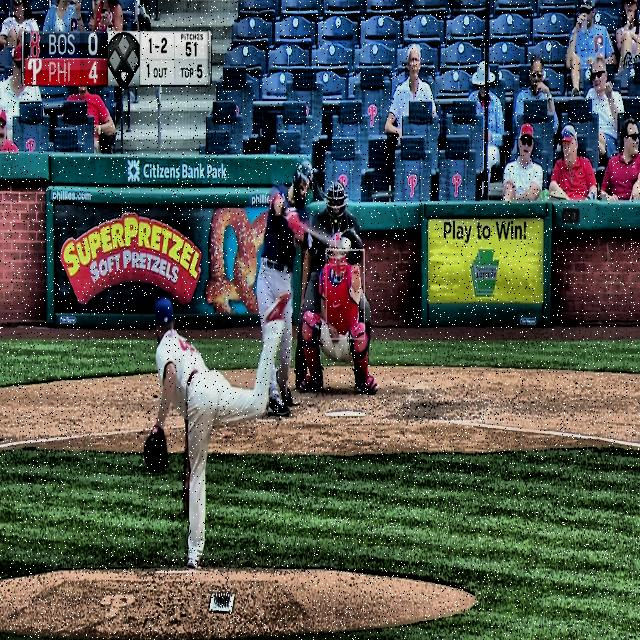baseball: (342, 237, 351, 250)
